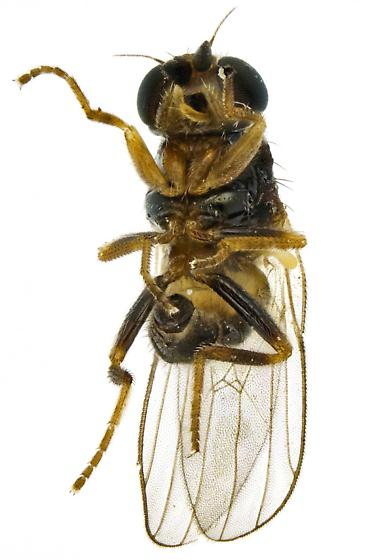Chloropidae: (16, 7, 310, 552)
